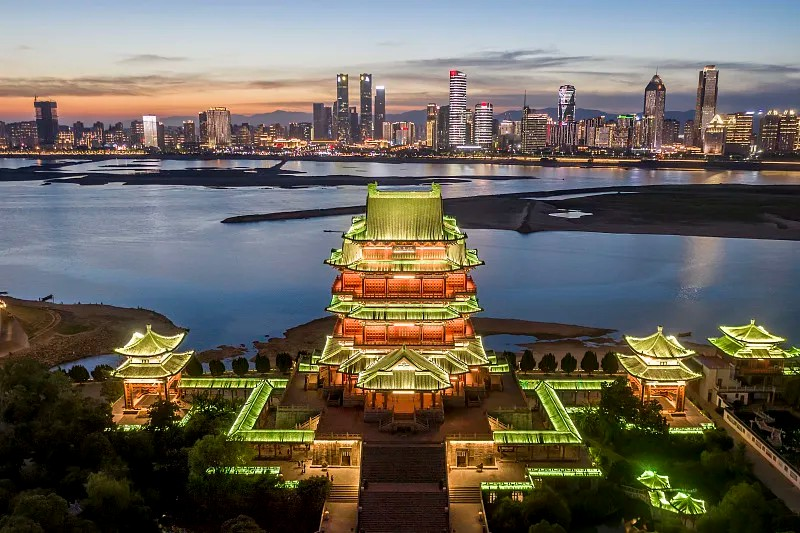Teng: (298, 181, 506, 412)
